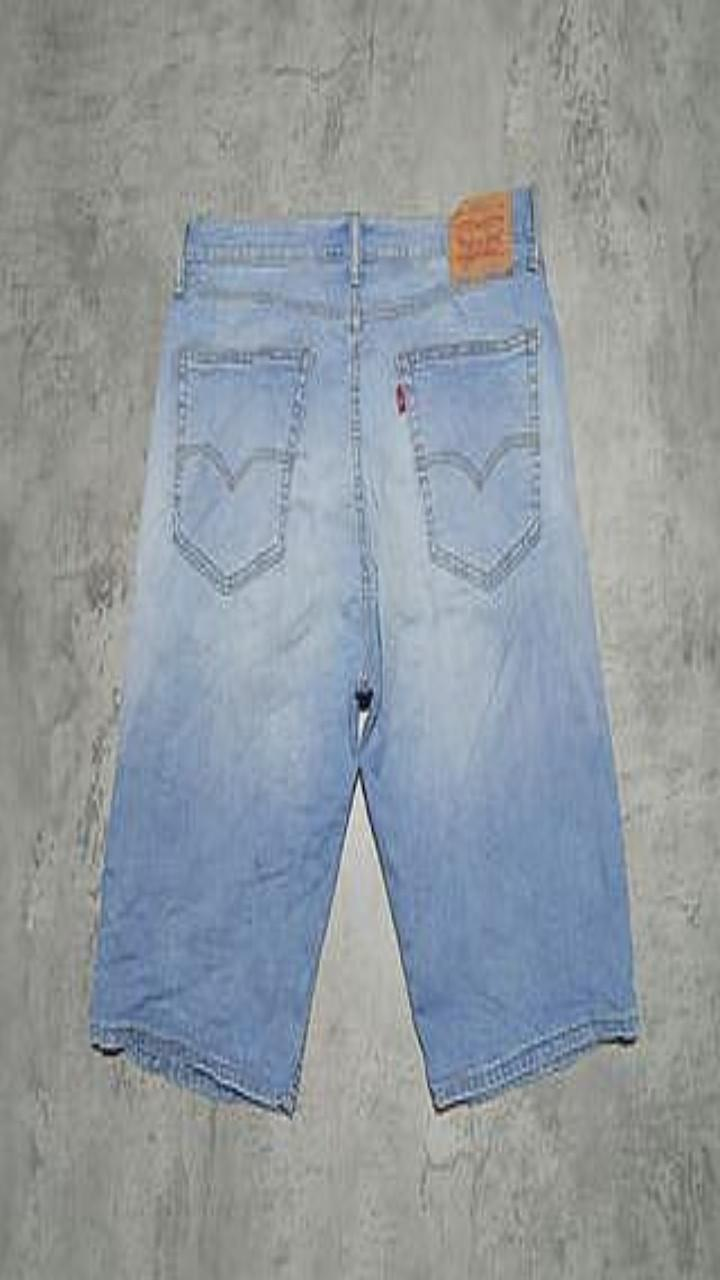Shorts: (90, 185, 638, 1113)
